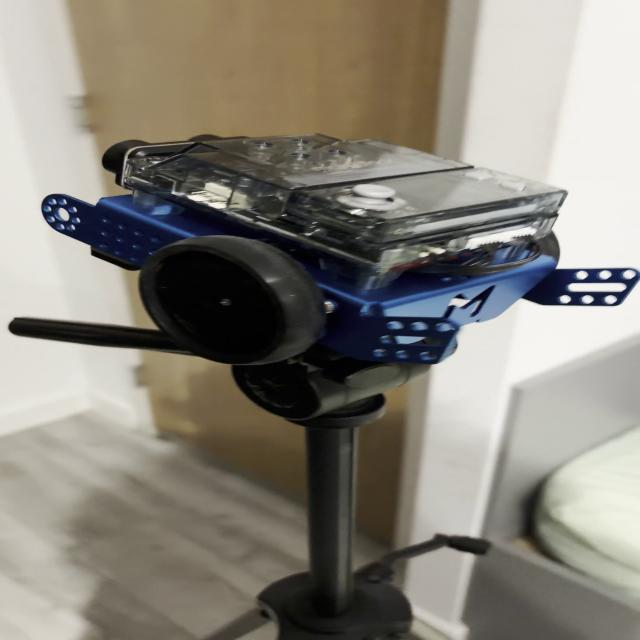mbot-detection: (28, 122, 640, 375)
